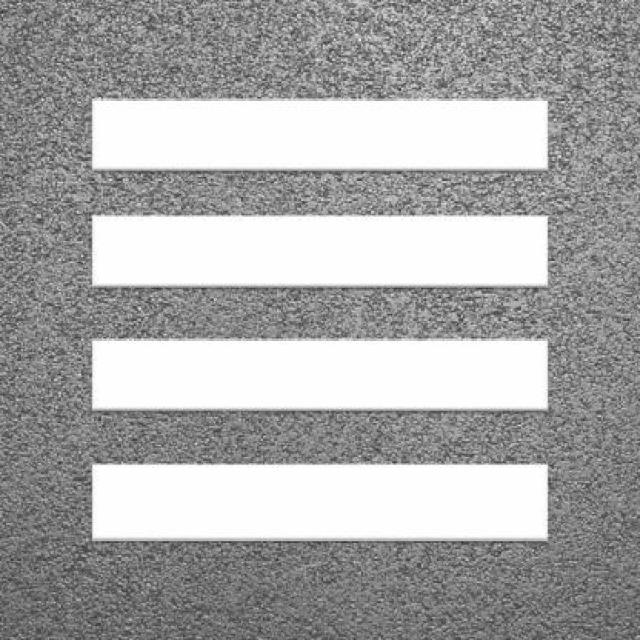crosswalk: (94, 96, 552, 544)
